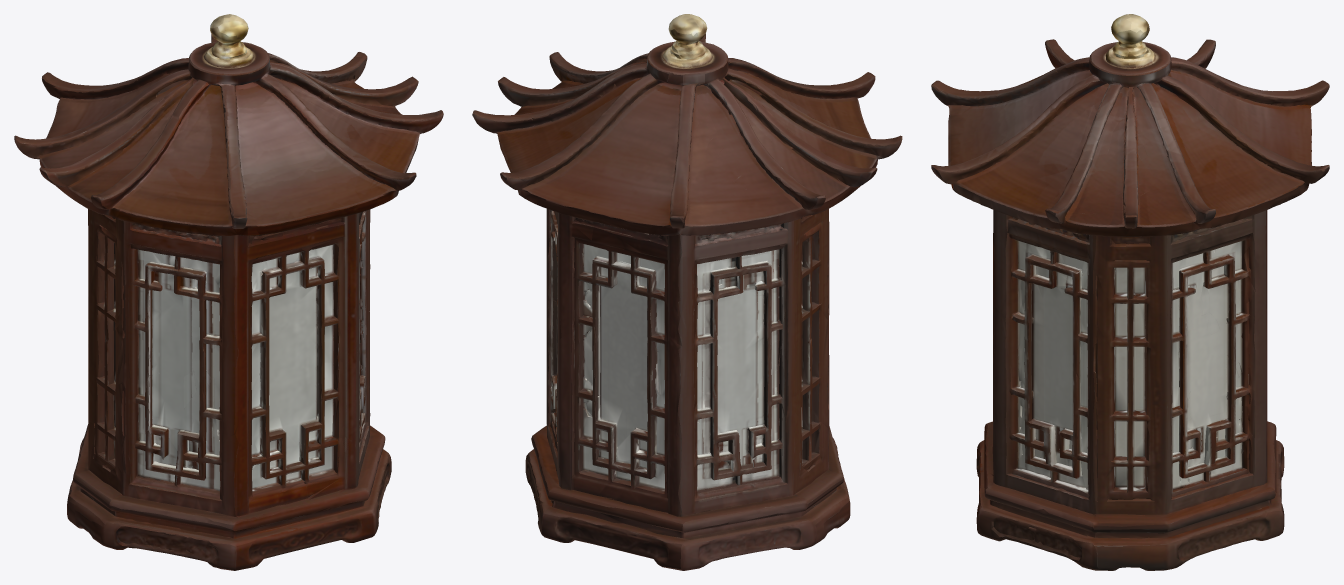
Rendered from lantern_img3d_t6661658_1.glb.
3 renders of one model, left to right at view 1: azimuth 30°, elevation 25°; view 2: azimuth 150°, elevation 25°; view 3: azimuth 270°, elevation 25°, orthographic.
Visible parts, largest first — view 1: geometry_0; view 2: geometry_0; view 3: geometry_0.
Part boxes in pixels (x1,y1,x2,y2): geometry_0: (14, 14, 443, 570); geometry_0: (472, 14, 902, 570); geometry_0: (931, 14, 1329, 570).
Size of the model in its own units: 0.3635 by 0.45 by 0.3336.
1 material, 1 textured.
